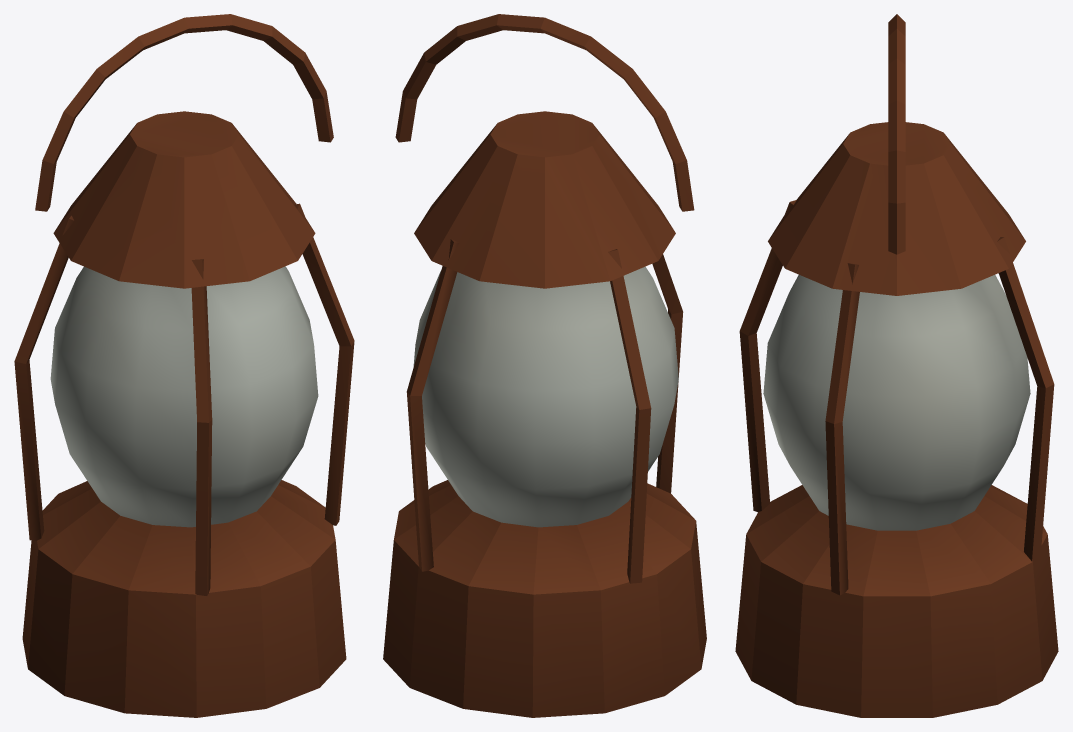
File: cave_old_lantern.glb
3 renders of one model, left to right at view 1: azimuth 30°, elevation 25°; view 2: azimuth 150°, elevation 25°; view 3: azimuth 270°, elevation 25°, orthographic.
Visible parts, largest first — view 1: cave_old_lantern_LOD0; view 2: cave_old_lantern_LOD0; view 3: cave_old_lantern_LOD0.
Boxes of the visible parts, x1,y1,x2,y2 form: cave_old_lantern_LOD0: [14, 14, 354, 717]; cave_old_lantern_LOD0: [383, 14, 706, 717]; cave_old_lantern_LOD0: [735, 14, 1058, 717].
Size of what is drawn, in the model's own units: 0.158 by 0.319 by 0.15.
